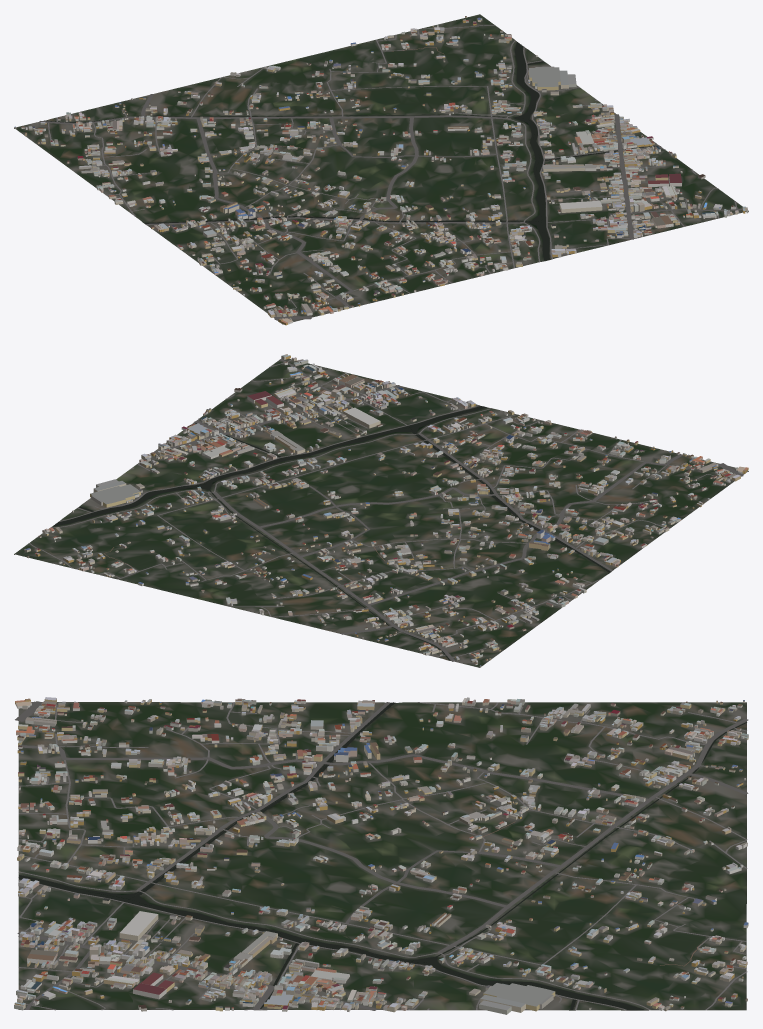
3 renders of one model, top to bottom at view 1: azimuth 30°, elevation 25°; view 2: azimuth 150°, elevation 25°; view 3: azimuth 270°, elevation 25°, orthographic. The views are drawn at different scales.
Parts seen in each view (by area): view 1: ground, buildings, roads, water; view 2: ground, buildings, roads, water; view 3: ground, buildings, roads, water.
Part boxes in pixels (x1,y1,x2,y2): ground: [14, 14, 748, 324]; buildings: [14, 16, 748, 325]; roads: [39, 25, 742, 320]; water: [44, 42, 657, 260]; ground: [14, 358, 748, 667]; buildings: [24, 354, 748, 667]; roads: [29, 359, 743, 661]; water: [52, 406, 610, 660]; ground: [18, 702, 746, 1010]; buildings: [14, 697, 748, 1014]; roads: [15, 701, 748, 1010]; water: [18, 702, 746, 1010].
Bounding box in the file's own units: 1428 × 22.69 × 1414.
